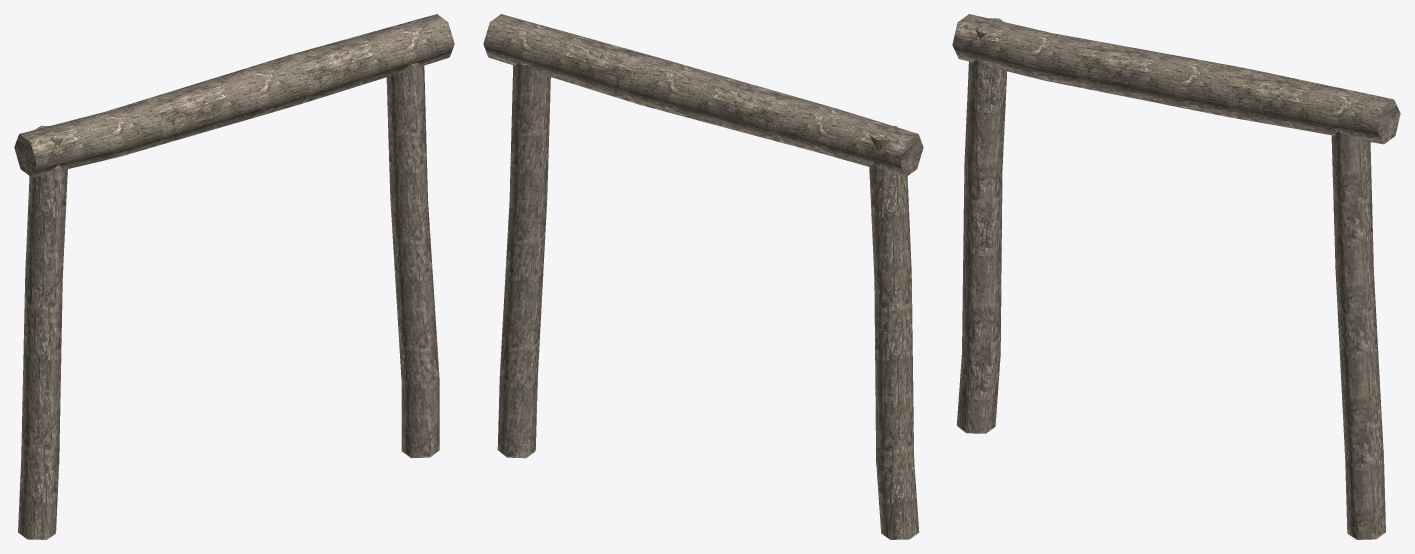
Rendered from WoodColumn.fbx.
The picture shows the model from 3 angles, left to right: view 1: azimuth 30°, elevation 25°; view 2: azimuth 150°, elevation 25°; view 3: azimuth 330°, elevation 25°; orthographic projection.
Visible parts, largest first — view 1: WoodColumn; view 2: WoodColumn; view 3: WoodColumn.
Part boxes in pixels (x1=…): WoodColumn: x1=14, y1=14, x2=454, y2=539; WoodColumn: x1=483, y1=14, x2=923, y2=539; WoodColumn: x1=952, y1=14, x2=1400, y2=539.
Size of the model in its own units: 320 by 311 by 35.02.
